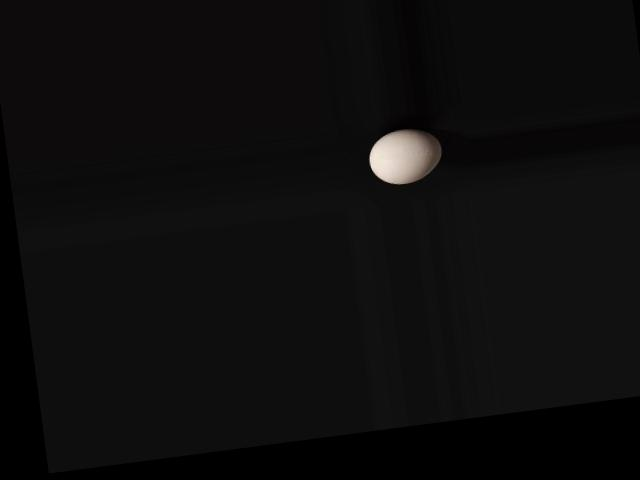egg: (364, 125, 444, 187)
